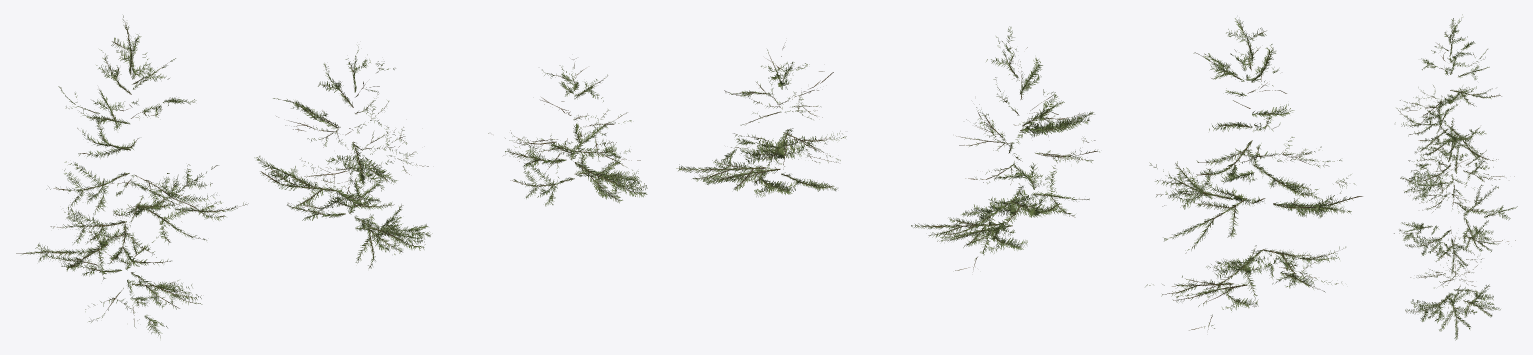
File: fir_sapling.glb
3 renders of one model, left to right at view 1: azimuth 30°, elevation 25°; view 2: azimuth 150°, elevation 25°; view 3: azimuth 270°, elevation 25°, orthographic. The views are drawn at different scales.
Parts seen in each view (by area): view 1: fir_sapling_a, fir_sapling_b, fir_sapling_c; view 2: fir_sapling_a, fir_sapling_b, fir_sapling_c; view 3: fir_sapling_a, fir_sapling_b, fir_sapling_c.
Part boxes in pixels (left/top/right/bottom): fir_sapling_a: left=16, top=15, right=248, bottom=338; fir_sapling_b: left=254, top=45, right=432, bottom=268; fir_sapling_c: left=488, top=58, right=647, bottom=206; fir_sapling_a: left=1145, top=18, right=1362, bottom=330; fir_sapling_b: left=911, top=26, right=1099, bottom=270; fir_sapling_c: left=676, top=42, right=846, bottom=197; fir_sapling_a: left=1395, top=14, right=1514, bottom=209; fir_sapling_b: left=1394, top=129, right=1517, bottom=274; fir_sapling_c: left=1405, top=229, right=1500, bottom=340.
Bounding box in the file's own units: 2.73 × 1.27 × 0.8171.
1 material, 1 textured.
